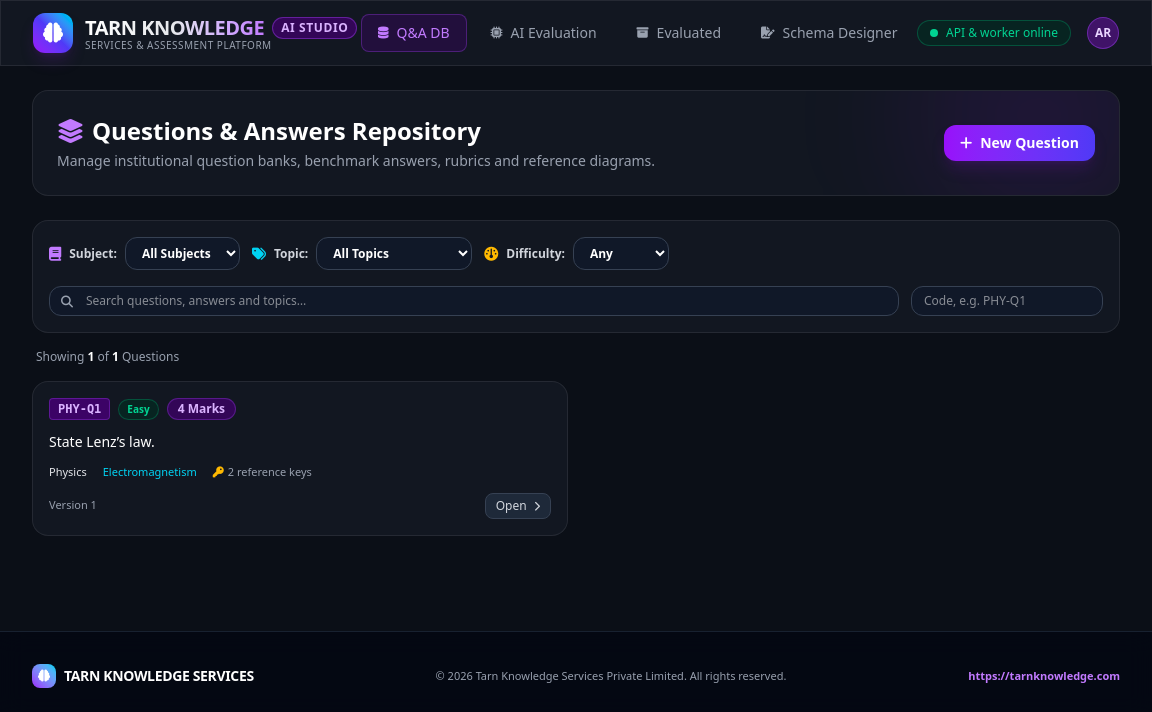
Test: question detail › offers Edit and the upload actions to a teacher, and no Copy
Click the button with aria-label "Open PHY-Q1" at (518, 506), box [485, 492, 551, 518]
(page scrolled)
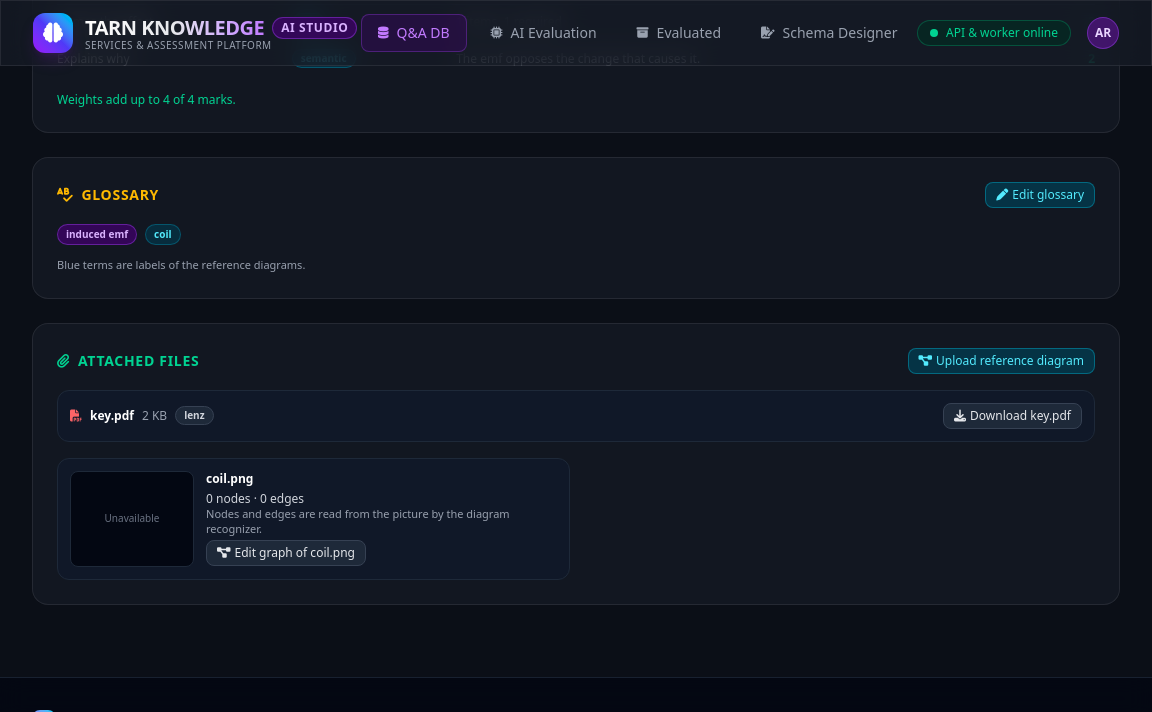
Expected: the button "Upload reference diagram" is shown, [908, 348, 1095, 374]
